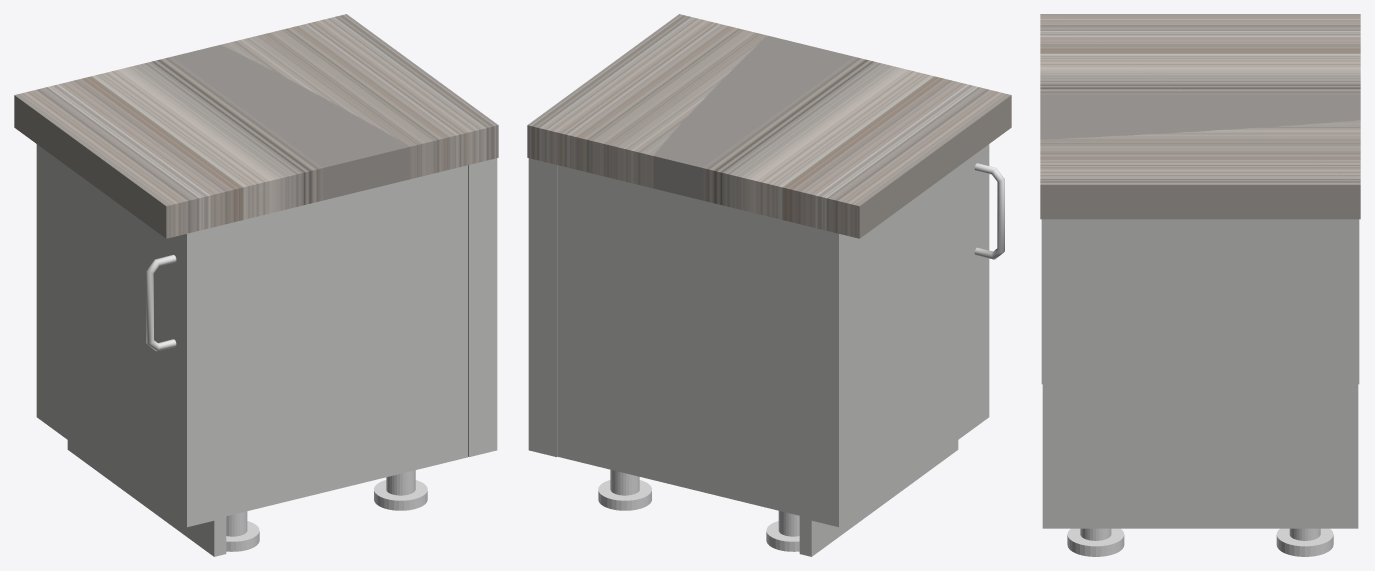
File: cabinet.glb
3 views of the same model, side by side, from view 1: azimuth 30°, elevation 25°; view 2: azimuth 150°, elevation 25°; view 3: azimuth 270°, elevation 25° (orthographic). The views are drawn at different scales.
Parts seen in each view (by area): view 1: Cube.004, Cube.005, Cube.002, Cube.001, Cube.006, Cylinder.006, Cylinder.004, Vert; view 2: Cube, Cube.005, Cube.002, Cube.001, Cube.006, Cylinder.002, Cylinder, Vert; view 3: Cube.001, Cube.005, Cylinder.002, Cylinder.006, Cube.002.
Part boxes in pixels (<box>): Cube.004: <box>215,165,467,518</box>; Cube.005: <box>14,14,498,238</box>; Cube.002: <box>36,144,215,527</box>; Cube.001: <box>468,158,497,457</box>; Cube.006: <box>67,440,226,556</box>; Cylinder.006: <box>374,470,427,510</box>; Cylinder.004: <box>226,511,259,551</box>; Vert: <box>146,254,176,351</box>; Cube: <box>557,165,810,518</box>; Cube.005: <box>527,14,1011,238</box>; Cube.002: <box>810,144,989,527</box>; Cube.001: <box>528,158,557,457</box>; Cube.006: <box>799,440,958,556</box>; Cylinder.002: <box>598,469,651,510</box>; Cylinder: <box>766,511,799,551</box>; Vert: <box>974,163,1004,259</box>; Cube.001: <box>1042,219,1358,528</box>; Cube.005: <box>1040,14,1360,219</box>; Cylinder.002: <box>1276,528,1333,556</box>; Cylinder.006: <box>1067,528,1124,556</box>; Cube.002: <box>1041,219,1359,384</box>.
Size of the model in its own units: 9.59 by 10.18 by 7.46.
Materials: 2 (1 with a texture image).
